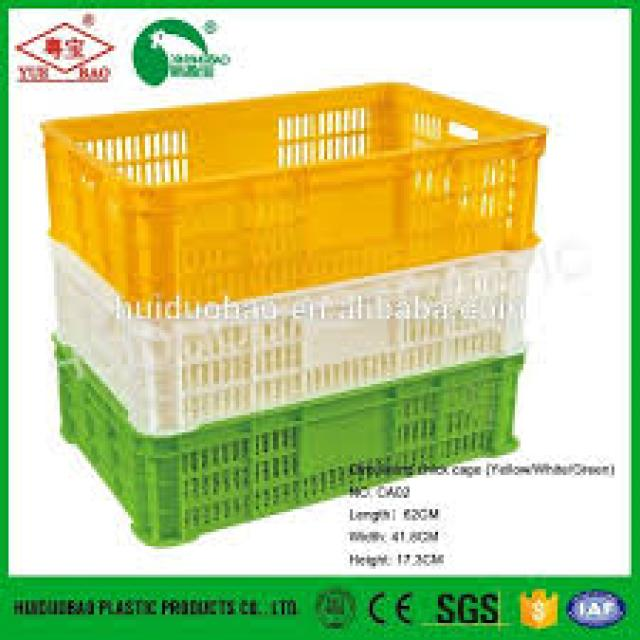basket: (38, 67, 564, 325), (52, 245, 535, 441)
